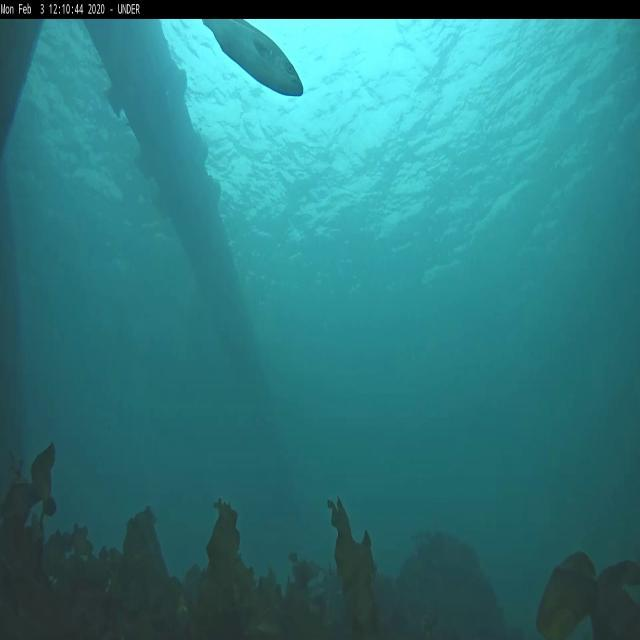fish: (204, 21, 302, 100)
